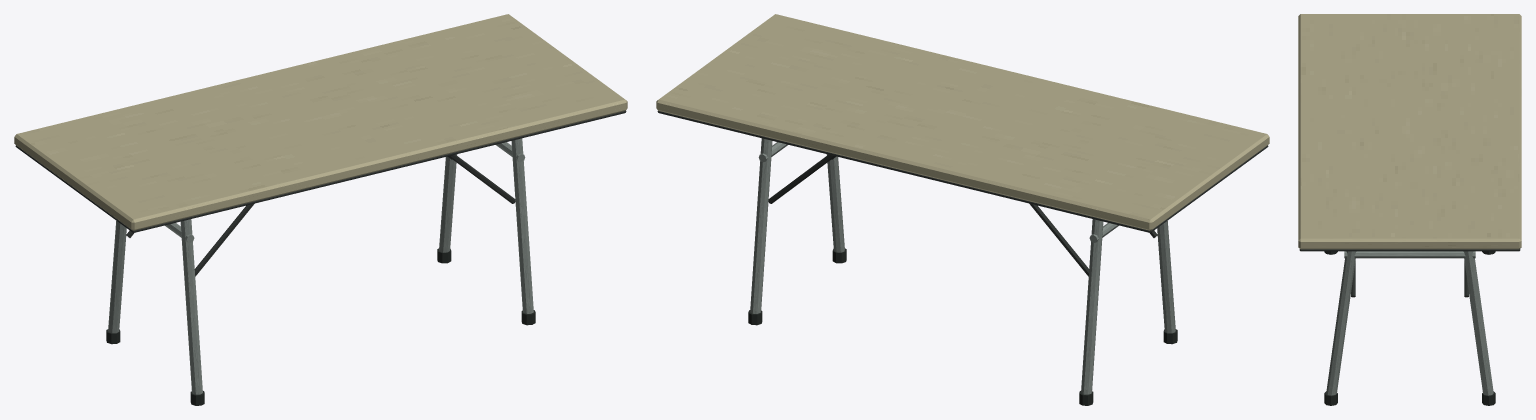
Rendered from folding_table_institutional.glb.
The picture shows the model from 3 angles, left to right: view 1: azimuth 30°, elevation 25°; view 2: azimuth 150°, elevation 25°; view 3: azimuth 270°, elevation 25°; orthographic projection. The views are drawn at different scales.
Parts seen in each view (by area): view 1: folding_table_institutional; view 2: folding_table_institutional; view 3: folding_table_institutional.
Boxes of the visible parts, x1,y1,x2,y2 form: folding_table_institutional: (14, 14, 627, 405); folding_table_institutional: (656, 14, 1269, 405); folding_table_institutional: (1298, 14, 1521, 405).
Size of the model in its own units: 1.8 by 0.745 by 0.75.
Materials: 5 (5 with a texture image).
